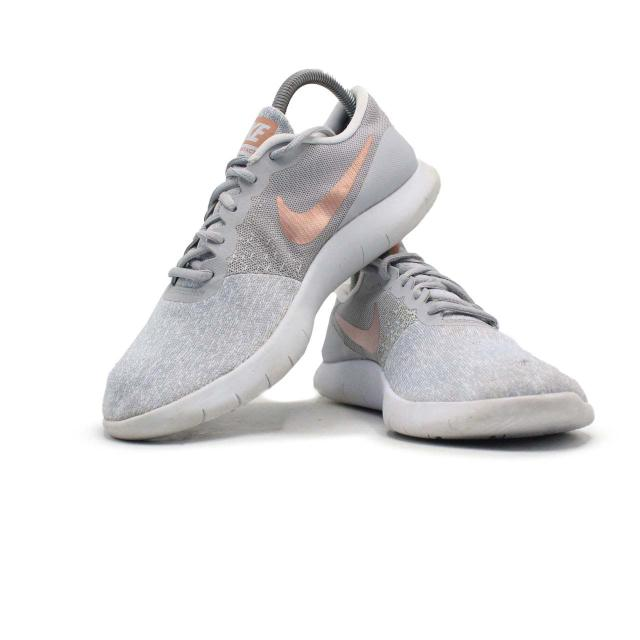heel: (348, 86, 417, 192)
midsole: (106, 158, 442, 443), (313, 358, 595, 441)
uppersole: (101, 107, 386, 421), (334, 245, 590, 403)
